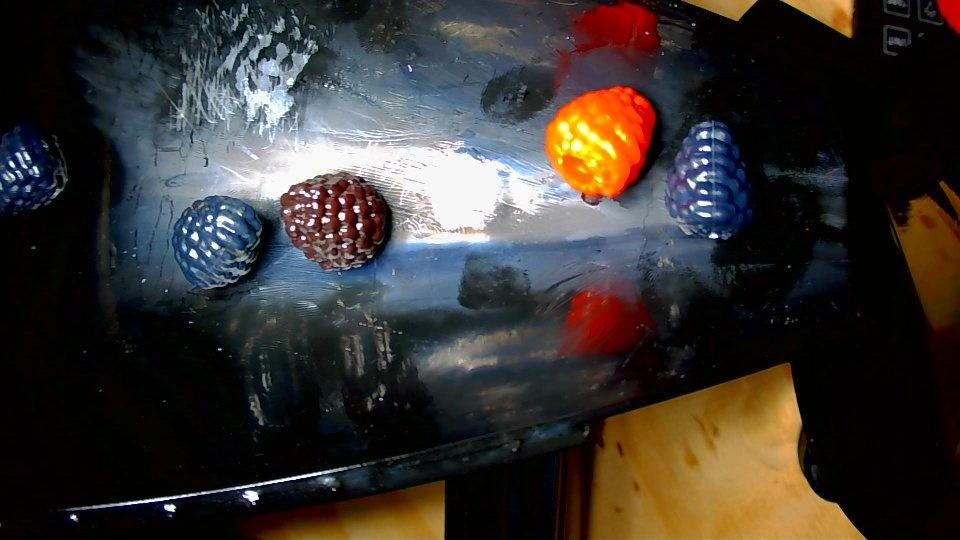berry: (545, 86, 656, 199), (664, 120, 751, 239), (281, 172, 387, 269), (171, 195, 260, 289), (0, 124, 67, 214)
